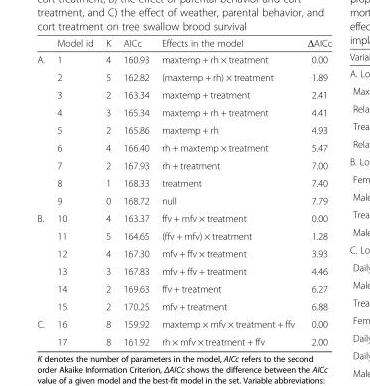table: (36, 36, 331, 347)
table column: (154, 36, 300, 347), (50, 36, 98, 347), (116, 36, 154, 347), (300, 36, 331, 347), (98, 36, 116, 347), (36, 36, 50, 347)
table column header: (36, 36, 331, 50)
table row: (36, 50, 331, 68), (36, 85, 331, 103), (36, 120, 331, 138), (36, 138, 331, 156), (36, 173, 331, 191), (36, 191, 331, 209), (36, 226, 331, 244), (36, 244, 331, 262), (36, 279, 331, 297), (36, 314, 331, 332), (36, 68, 331, 85), (36, 103, 331, 120), (36, 156, 331, 173), (36, 209, 331, 226), (36, 262, 331, 279), (36, 297, 331, 314), (36, 332, 331, 347), (36, 36, 331, 50)
table spanning cell: (36, 50, 50, 209), (36, 209, 50, 314), (36, 314, 50, 347)
